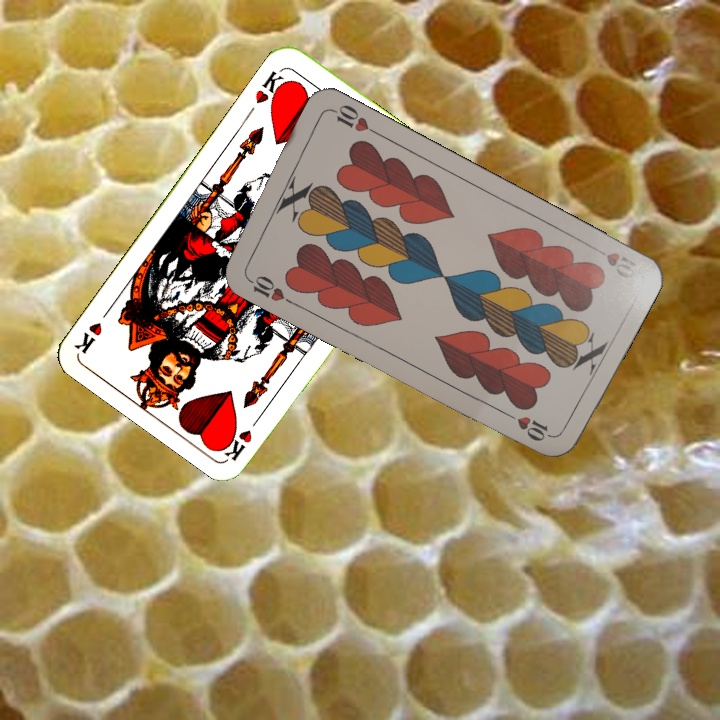H10: (241, 271, 295, 307), (602, 248, 638, 281)
HK: (221, 409, 266, 463), (250, 65, 291, 108)
